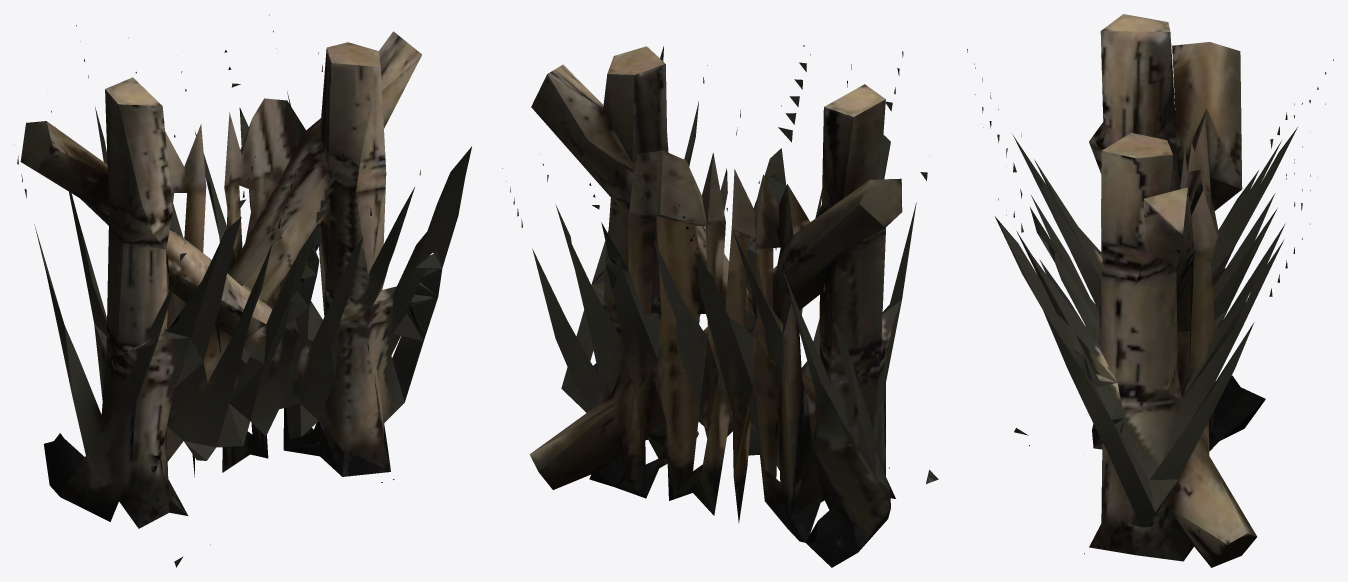
File: goblin_spikes_lod.glb
The picture shows the model from 3 angles, left to right: view 1: azimuth 30°, elevation 25°; view 2: azimuth 150°, elevation 25°; view 3: azimuth 270°, elevation 25°; orthographic projection.
Visible parts, largest first — view 1: goblin_spikes; view 2: goblin_spikes; view 3: goblin_spikes.
Boxes of the visible parts, left/top/right/bottom form: goblin_spikes: left=17, top=14, right=471, bottom=567; goblin_spikes: left=502, top=45, right=938, bottom=567; goblin_spikes: left=967, top=14, right=1333, bottom=567.
Size of the model in its own units: 1.29 by 1.41 by 1.11.
Materials: 1 (1 with a texture image).
